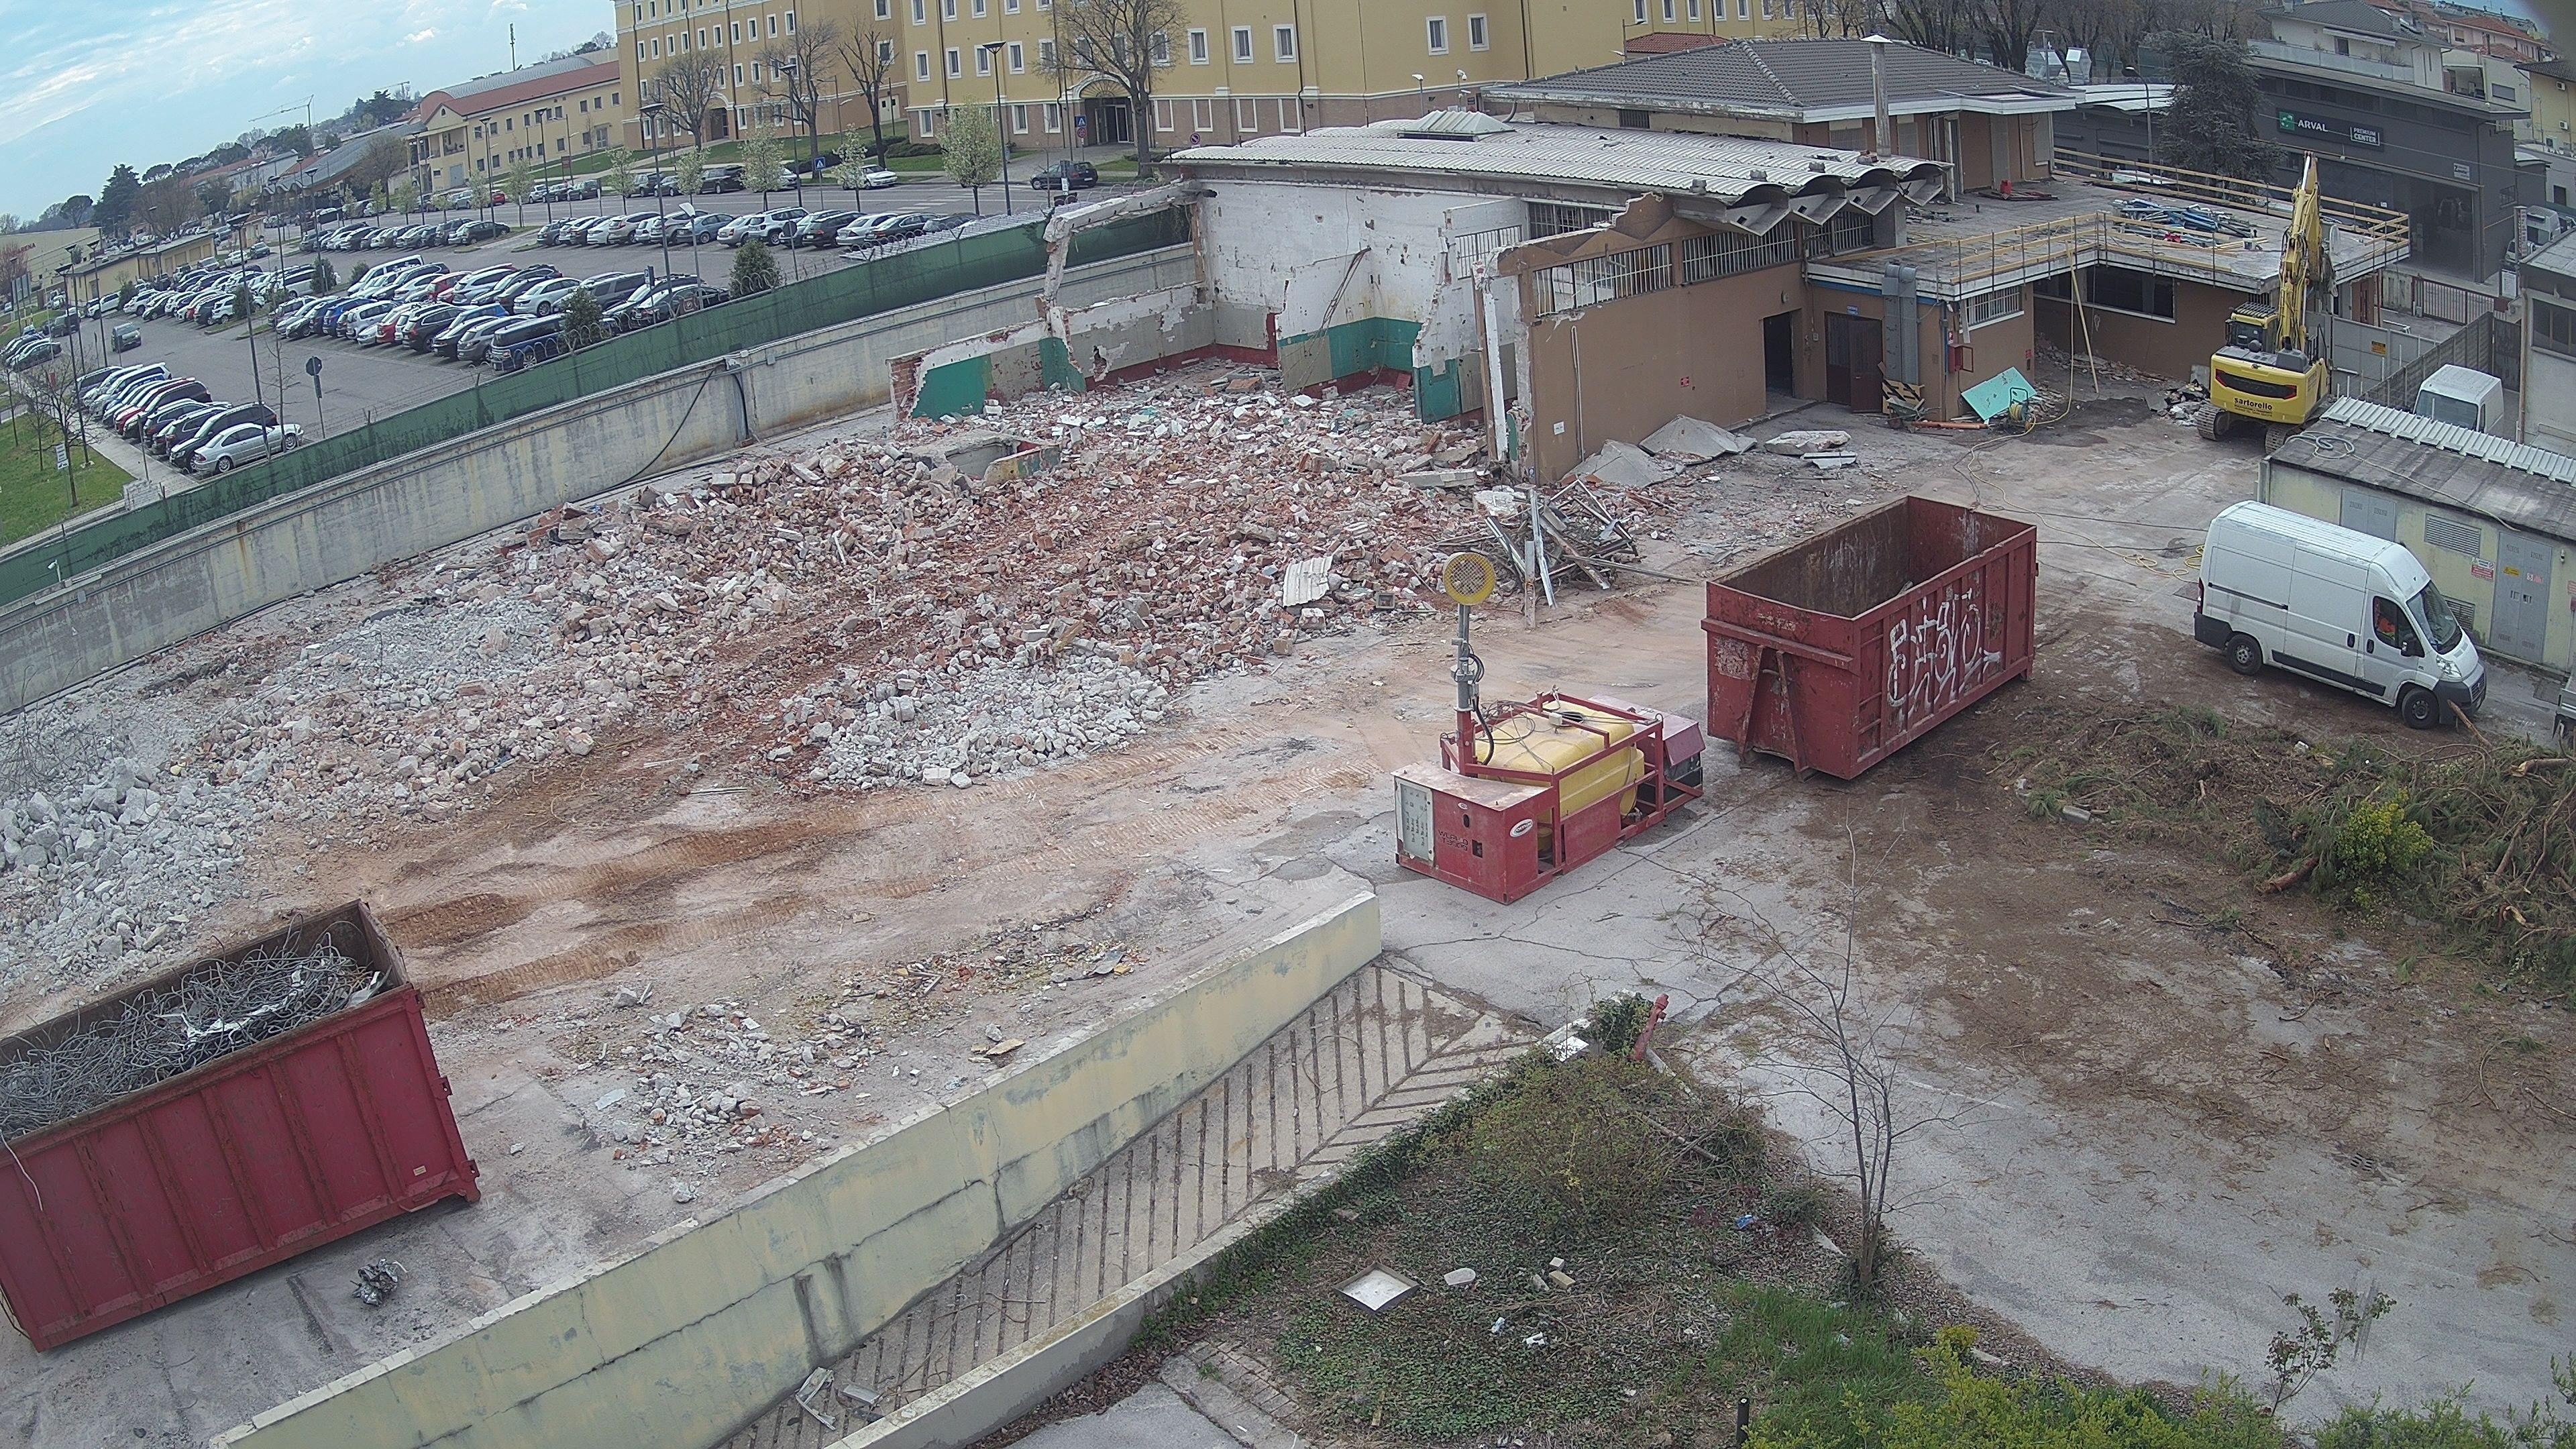Cars: (2190, 501, 2488, 734), (170, 402, 280, 469), (2410, 364, 2505, 441), (487, 311, 589, 372), (191, 423, 304, 474), (122, 380, 212, 442), (88, 361, 172, 421), (630, 283, 731, 331), (402, 304, 479, 354), (863, 212, 943, 248), (513, 276, 582, 317), (748, 205, 812, 246), (801, 211, 870, 246), (651, 209, 713, 246), (1030, 159, 1099, 189), (347, 301, 400, 340), (456, 315, 501, 359), (607, 211, 662, 244), (833, 165, 897, 191), (692, 165, 747, 195), (11, 341, 62, 370), (460, 219, 510, 246), (621, 172, 663, 198), (110, 322, 142, 354), (87, 290, 120, 320), (564, 179, 600, 200), (50, 313, 80, 338), (653, 175, 685, 198), (453, 189, 479, 211), (541, 182, 570, 202), (223, 249, 248, 267), (196, 257, 219, 272), (248, 242, 271, 258)
excavator: (2194, 150, 2339, 458)
